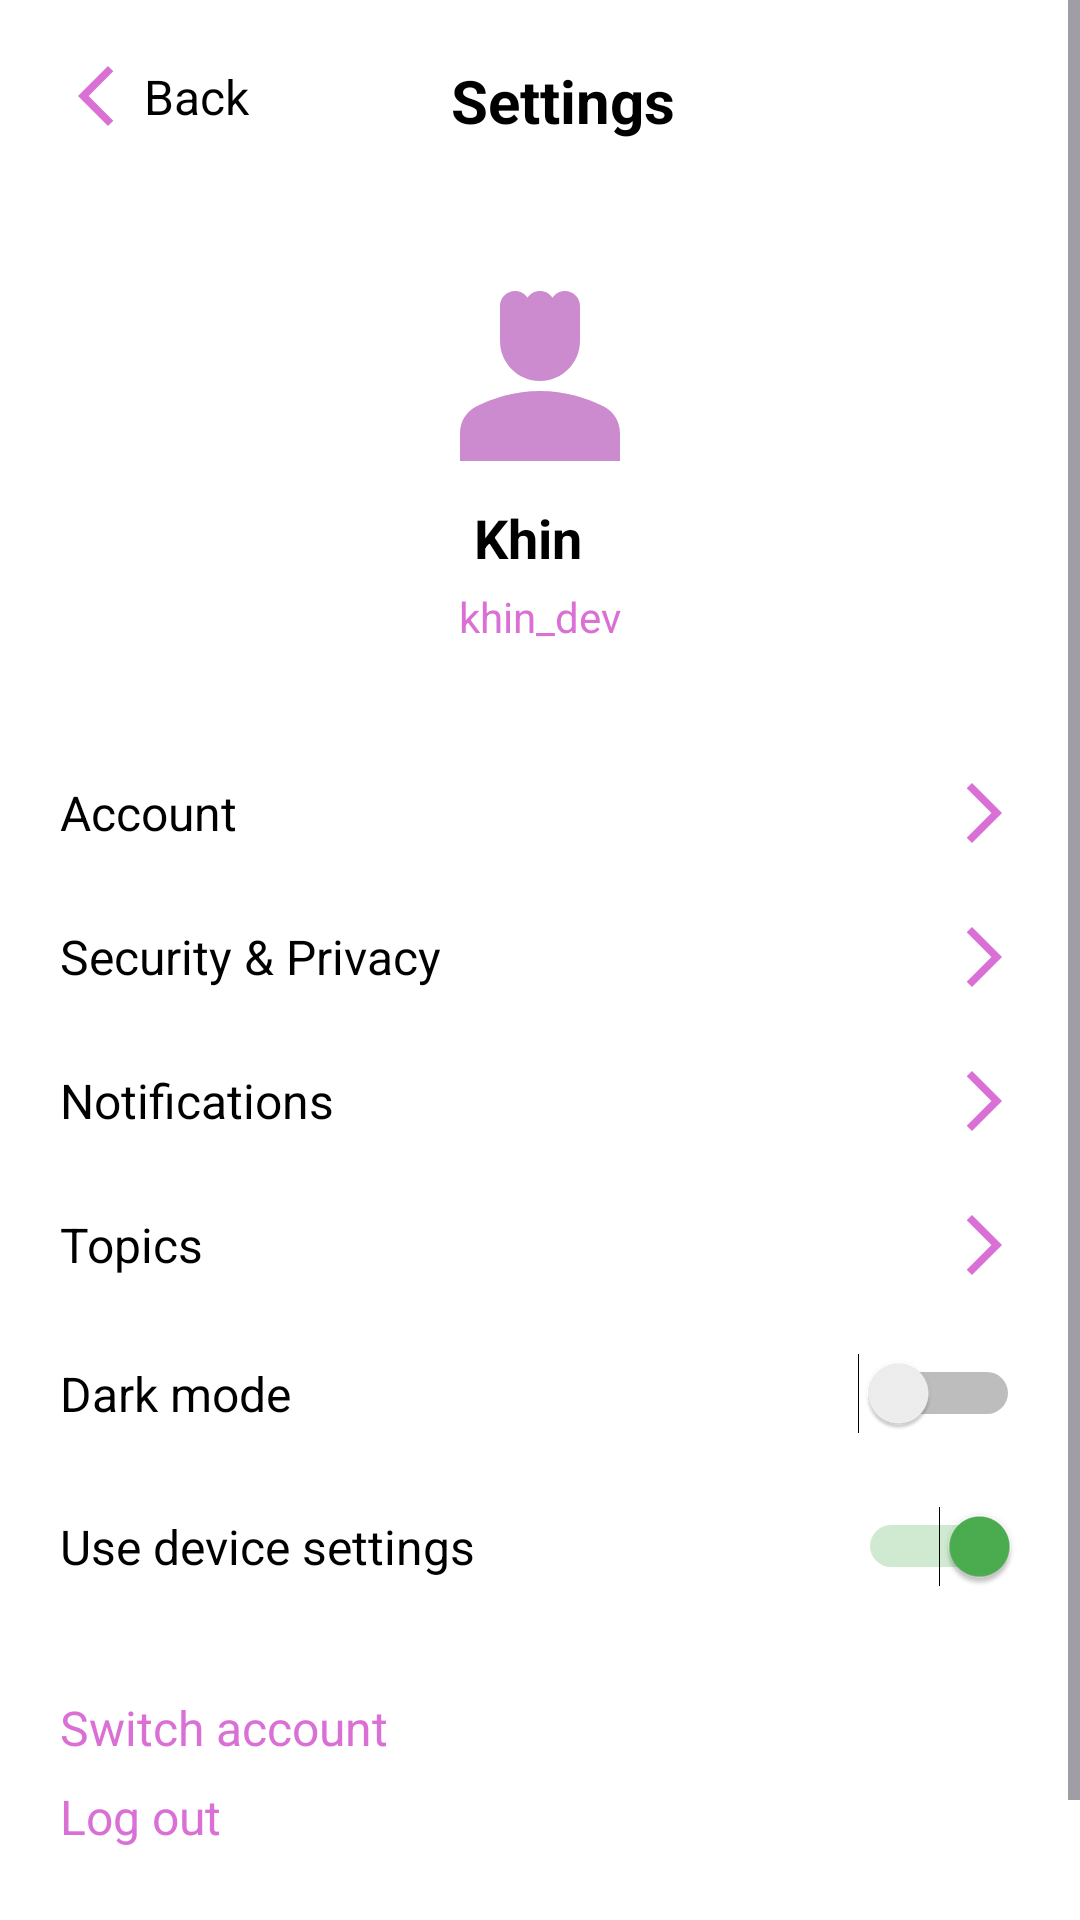

Icons on this 1080w x 1920h Android screen, each with the point to tap as point (x, y):
Profile Image: point (540, 376)
